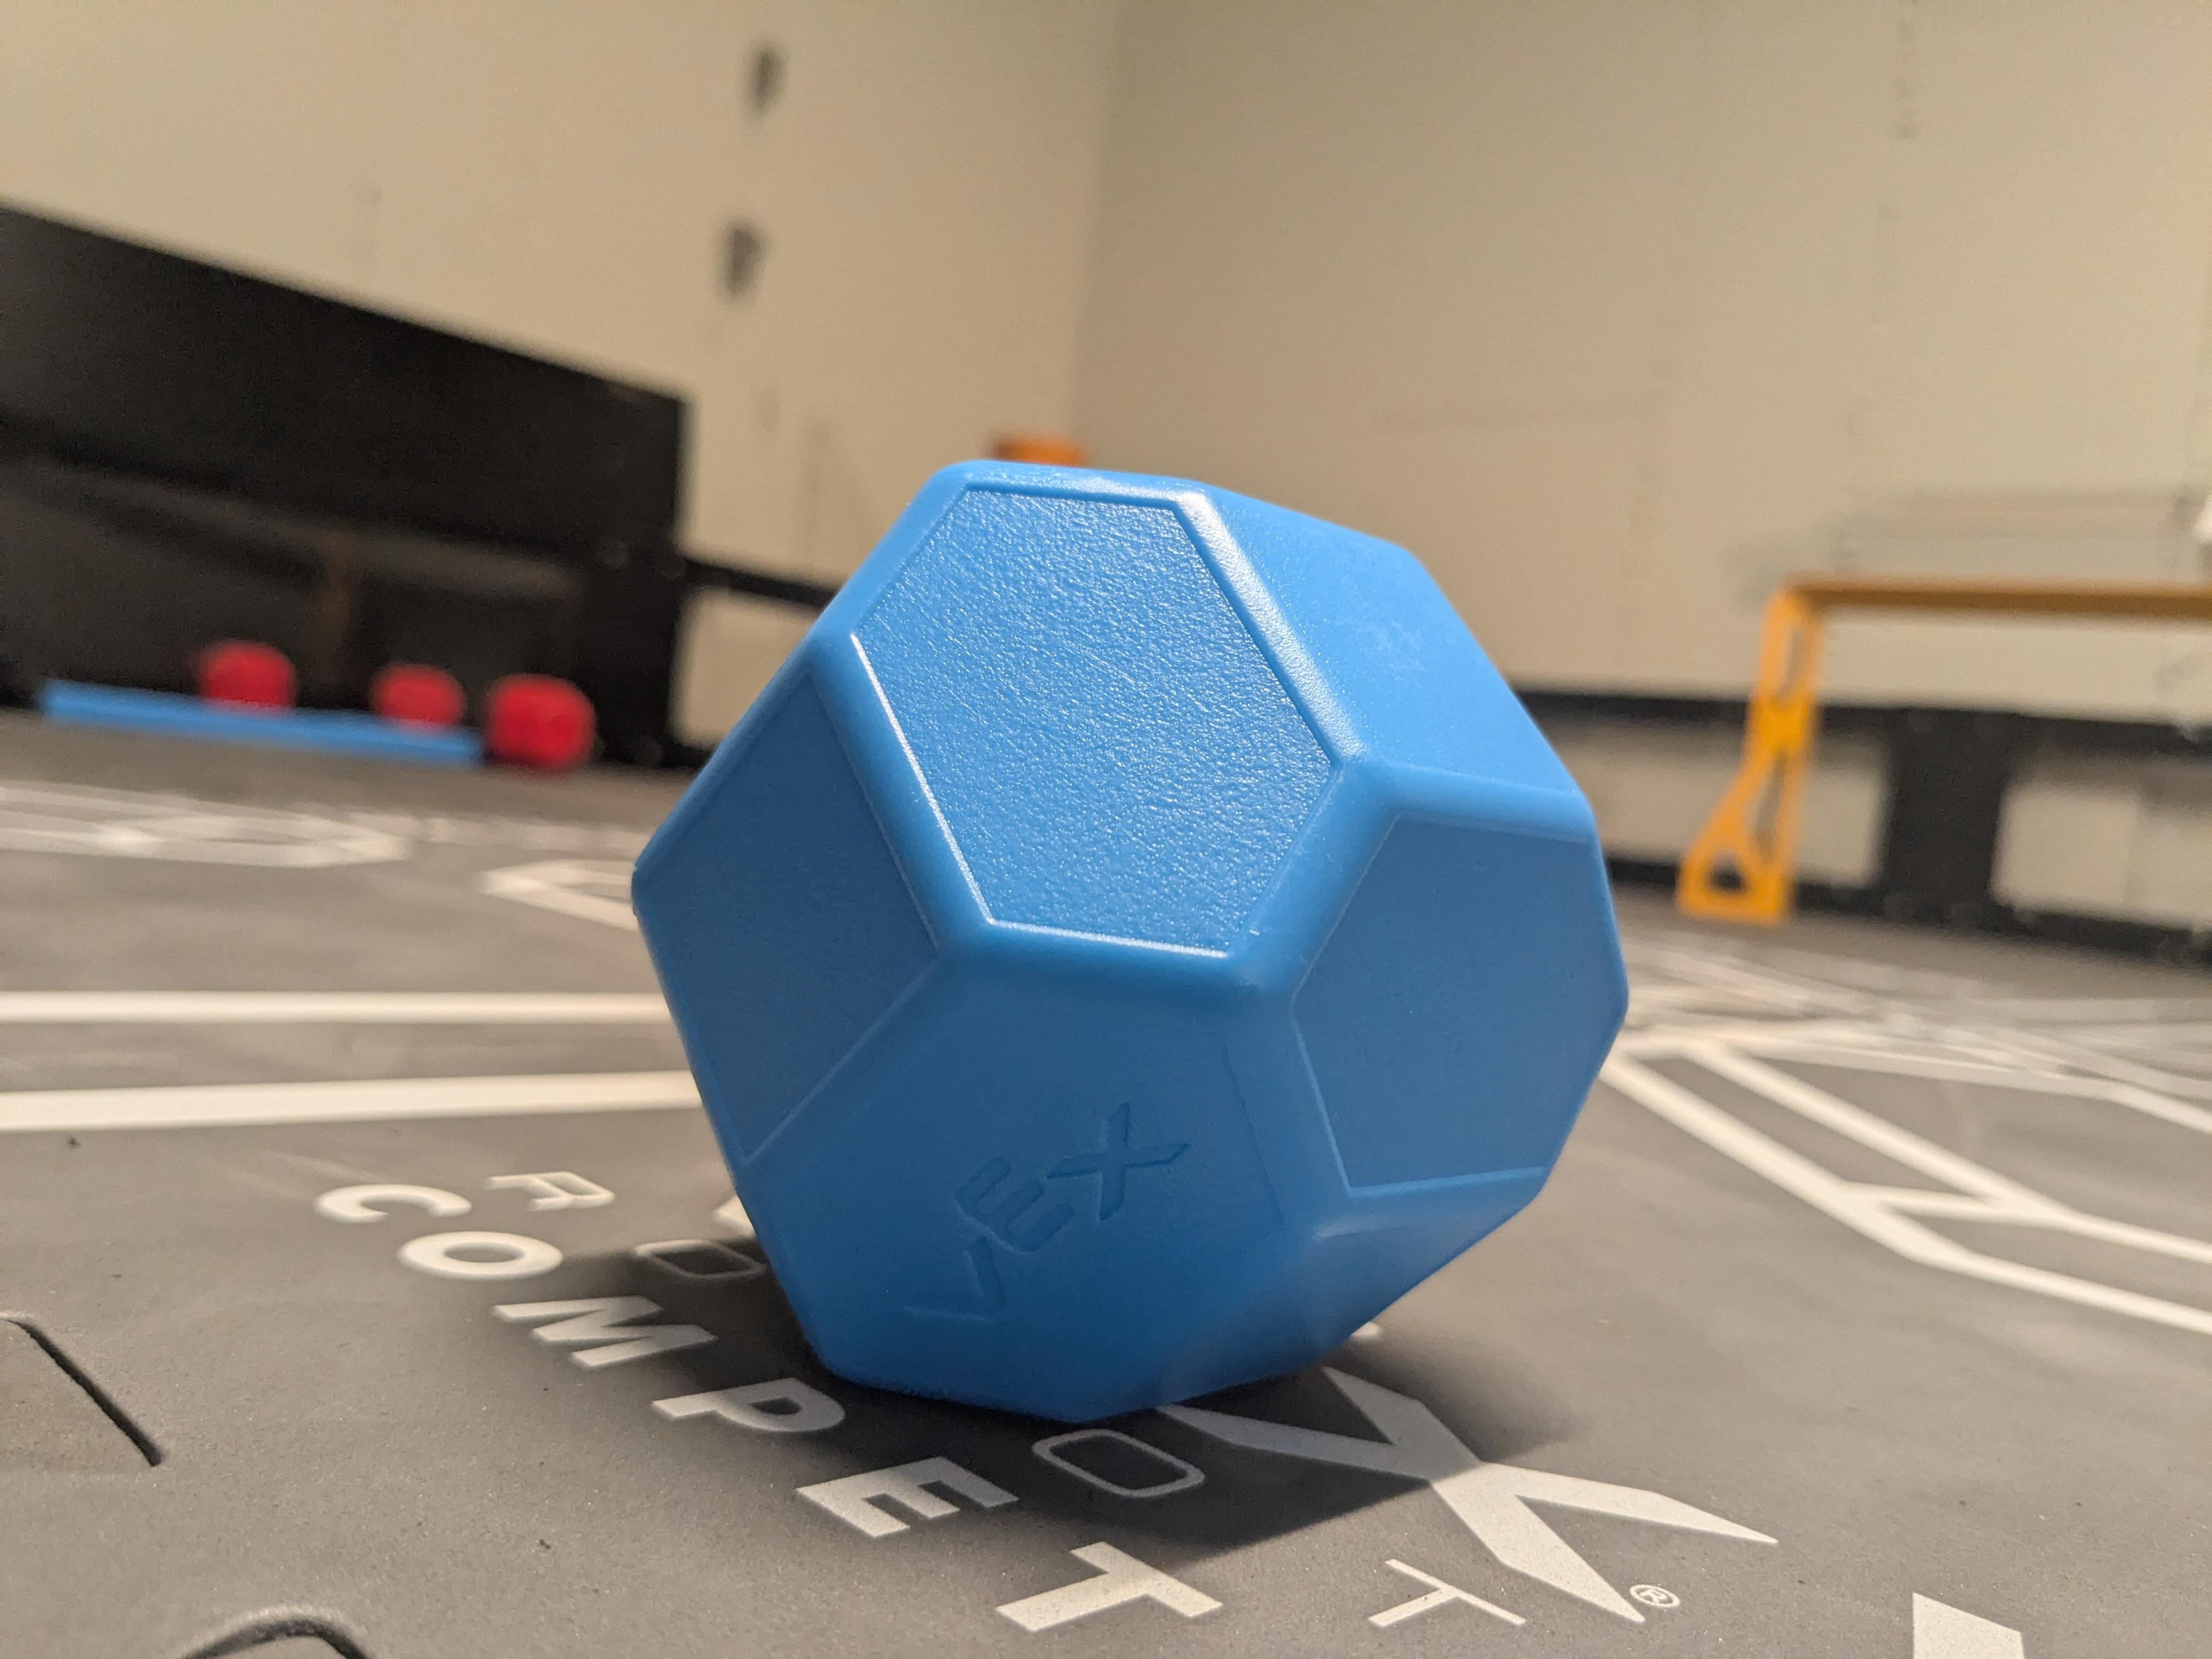Vex-Pieces-BLUE: (636, 462, 1627, 1420)
